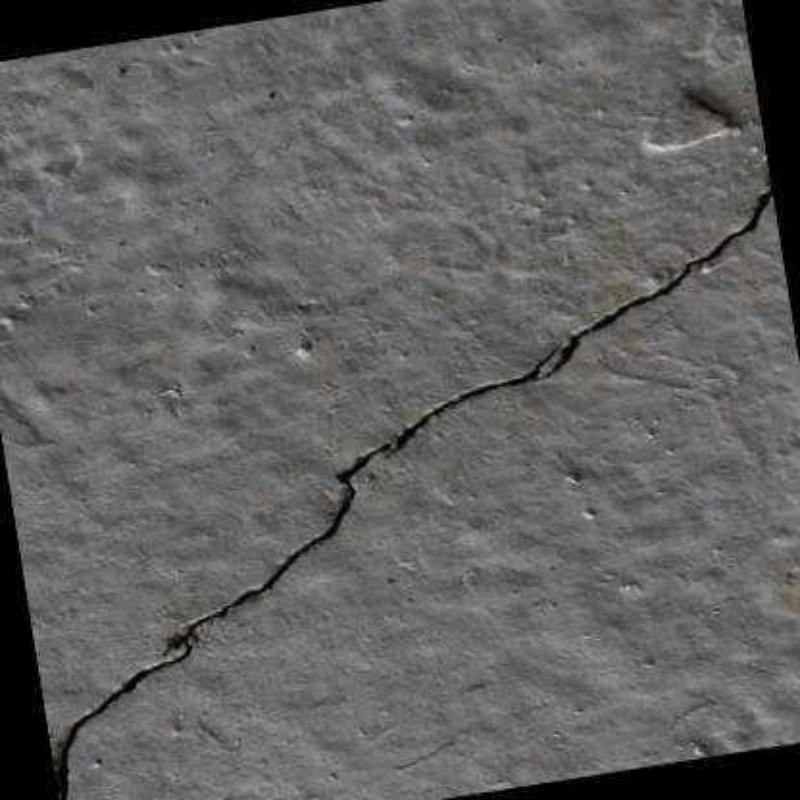crack: (57, 177, 773, 795)
